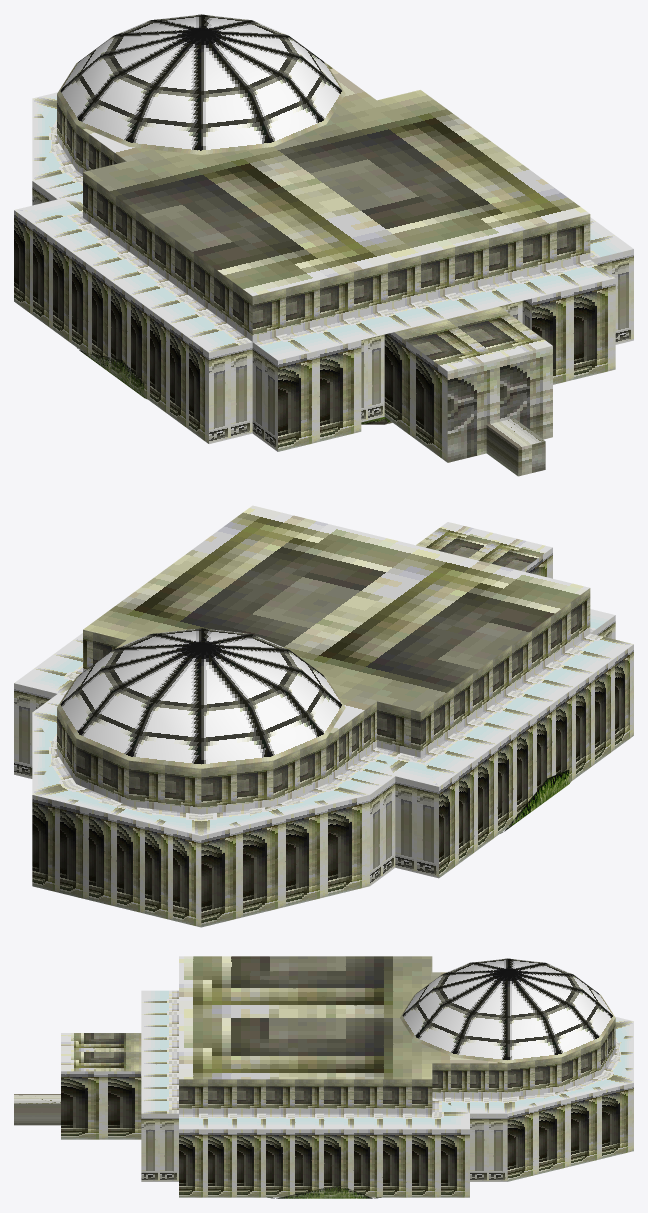
The model's file is Azalea Gym.dae.
The picture shows the model from 3 angles, top to bottom: view 1: azimuth 30°, elevation 25°; view 2: azimuth 150°, elevation 25°; view 3: azimuth 270°, elevation 25°; orthographic projection. The views are drawn at different scales.
Visible parts, largest first — view 1: Nemu_D0213DB_0_7, Nemu_5CF1068A_0_8, Nemu_404264C_0_6, Nemu_19BB3804_0_5, Nemu_5336DE17_0_9, Nemu_6BA83DB8_0_2, Nemu_701B407_79769C1E_11; view 2: Nemu_D0213DB_0_7, Nemu_5CF1068A_0_8, Nemu_404264C_0_6, Nemu_19BB3804_0_5, Nemu_5336DE17_0_9, Nemu_701B407_79769C1E_11; view 3: Nemu_D0213DB_0_7, Nemu_5CF1068A_0_8, Nemu_404264C_0_6, Nemu_19BB3804_0_5, Nemu_5336DE17_0_9, Nemu_6BA83DB8_0_2, Nemu_701B407_79769C1E_11.
Part boxes in pixels (left/top/right/bottom): Nemu_D0213DB_0_7: left=57, top=64, right=590, bottom=371; Nemu_5CF1068A_0_8: left=14, top=210, right=615, bottom=462; Nemu_404264C_0_6: left=57, top=14, right=345, bottom=154; Nemu_19BB3804_0_5: left=14, top=92, right=633, bottom=360; Nemu_5336DE17_0_9: left=32, top=181, right=633, bottom=451; Nemu_6BA83DB8_0_2: left=447, top=346, right=552, bottom=476; Nemu_701B407_79769C1E_11: left=77, top=348, right=146, bottom=398; Nemu_D0213DB_0_7: left=57, top=505, right=590, bottom=814; Nemu_5CF1068A_0_8: left=32, top=547, right=633, bottom=927; Nemu_404264C_0_6: left=57, top=628, right=345, bottom=768; Nemu_19BB3804_0_5: left=14, top=609, right=633, bottom=835; Nemu_5336DE17_0_9: left=14, top=615, right=615, bottom=885; Nemu_701B407_79769C1E_11: left=500, top=769, right=570, bottom=833; Nemu_D0213DB_0_7: left=61, top=956, right=615, bottom=1113; Nemu_5CF1068A_0_8: left=61, top=1071, right=633, bottom=1197; Nemu_404264C_0_6: left=400, top=958, right=615, bottom=1063; Nemu_19BB3804_0_5: left=141, top=990, right=633, bottom=1129; Nemu_5336DE17_0_9: left=141, top=1113, right=507, bottom=1181; Nemu_6BA83DB8_0_2: left=14, top=1094, right=60, bottom=1125; Nemu_701B407_79769C1E_11: left=267, top=1186, right=381, bottom=1198.
Size of the model in its own units: 1945 by 910 by 3290.
19 materials, 19 textured.
